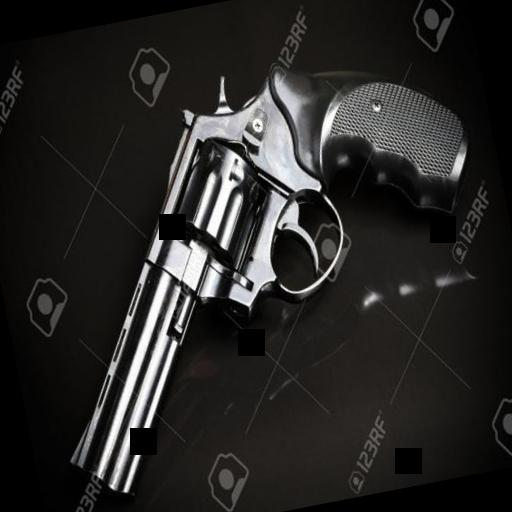Handgun: (0, 27, 512, 511)
